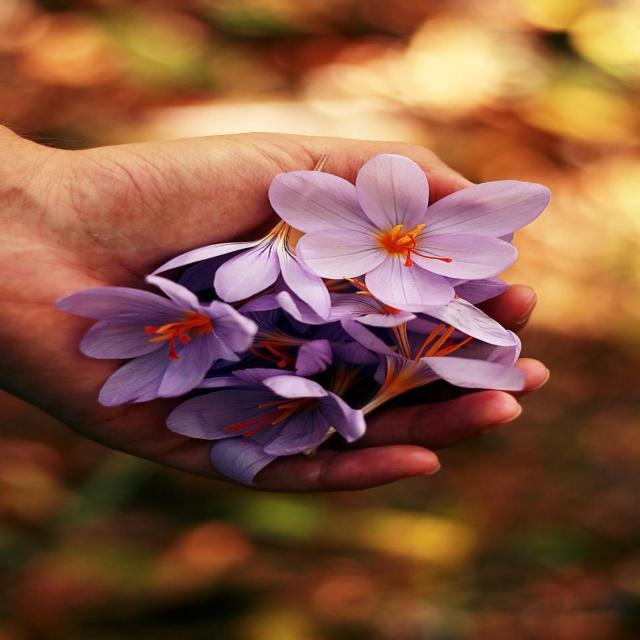Flower: (273, 154, 542, 289), (52, 276, 262, 404), (167, 381, 383, 471), (196, 217, 354, 320)
stigma: (216, 398, 298, 443)
